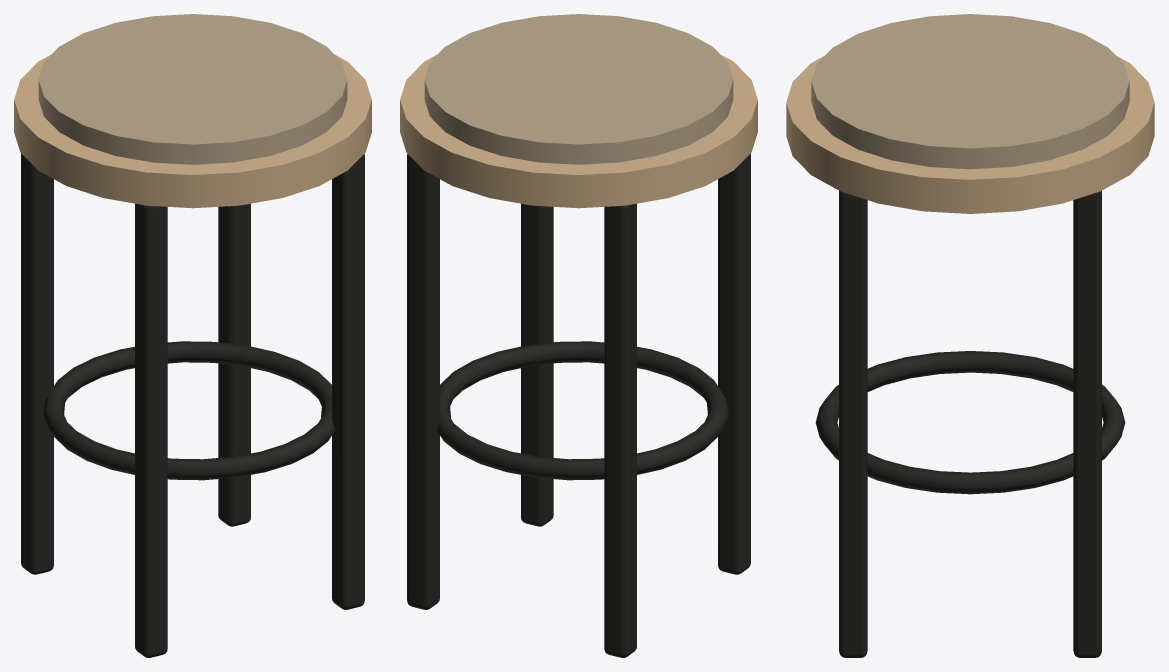
Rendered from stool.glb.
The picture shows the model from 3 angles, left to right: view 1: azimuth 30°, elevation 25°; view 2: azimuth 150°, elevation 25°; view 3: azimuth 270°, elevation 25°; orthographic projection. The views are drawn at different scales.
Visible parts, largest first — view 1: studio/black (×2), studio/sand, studio/oakLight; view 2: studio/black (×2), studio/sand, studio/oakLight; view 3: studio/sand, studio/black (×2), studio/oakLight.
Boxes of the visible parts, <box> form: studio/black (×2): <box>21,153,364,657</box>; studio/sand: <box>38,14,347,164</box>; studio/oakLight: <box>14,54,371,208</box>; studio/black (×2): <box>407,153,750,657</box>; studio/sand: <box>424,14,733,164</box>; studio/oakLight: <box>400,54,757,208</box>; studio/sand: <box>811,14,1129,169</box>; studio/black (×2): <box>815,190,1125,657</box>; studio/oakLight: <box>786,56,1154,213</box>.
Bounding box in the file's own units: 0.44 × 0.69 × 0.44.
